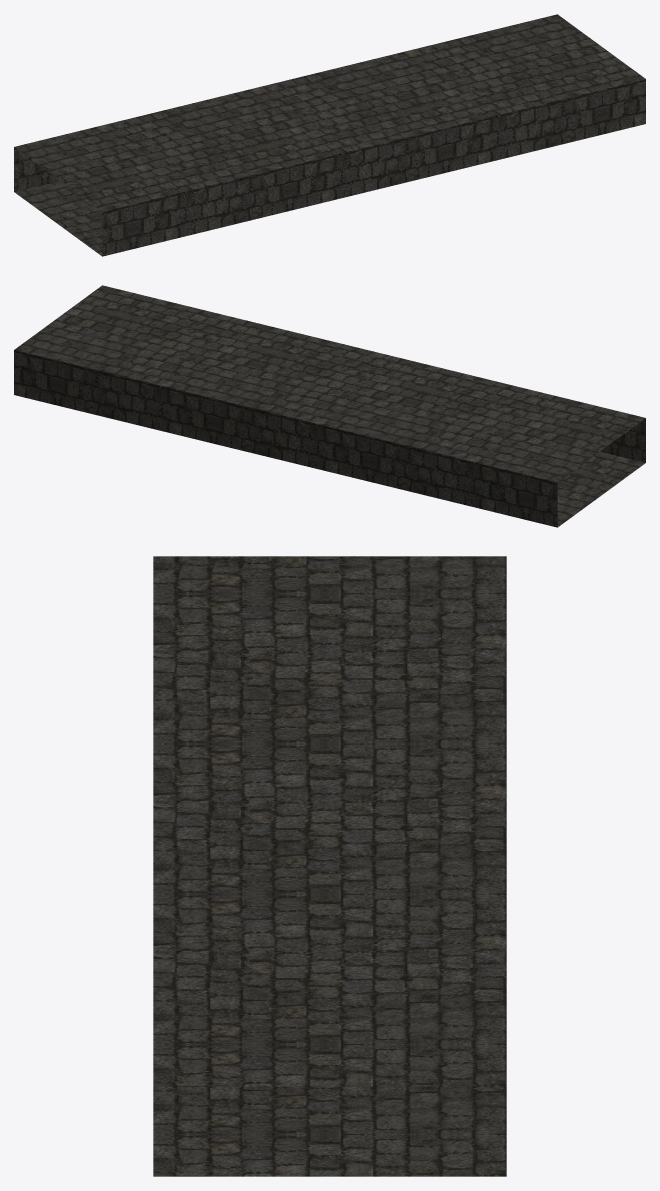
File: Cobblestone_Path.fbx
3 renders of one model, top to bottom at view 1: azimuth 30°, elevation 25°; view 2: azimuth 150°, elevation 25°; view 3: azimuth 270°, elevation 25°, orthographic. The views are drawn at different scales.
Visible parts, largest first — view 1: Cobblestone; view 2: Cobblestone; view 3: Cobblestone.
Part boxes in pixels (bbox=[...]): Cobblestone: bbox=[14, 14, 645, 256]; Cobblestone: bbox=[14, 285, 645, 527]; Cobblestone: bbox=[153, 556, 506, 1176].
Size of the model in its own units: 475 by 37.59 by 134.
1 material, 1 textured.
